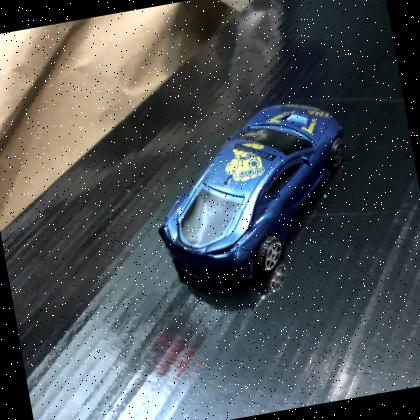Car: (158, 103, 344, 284)
